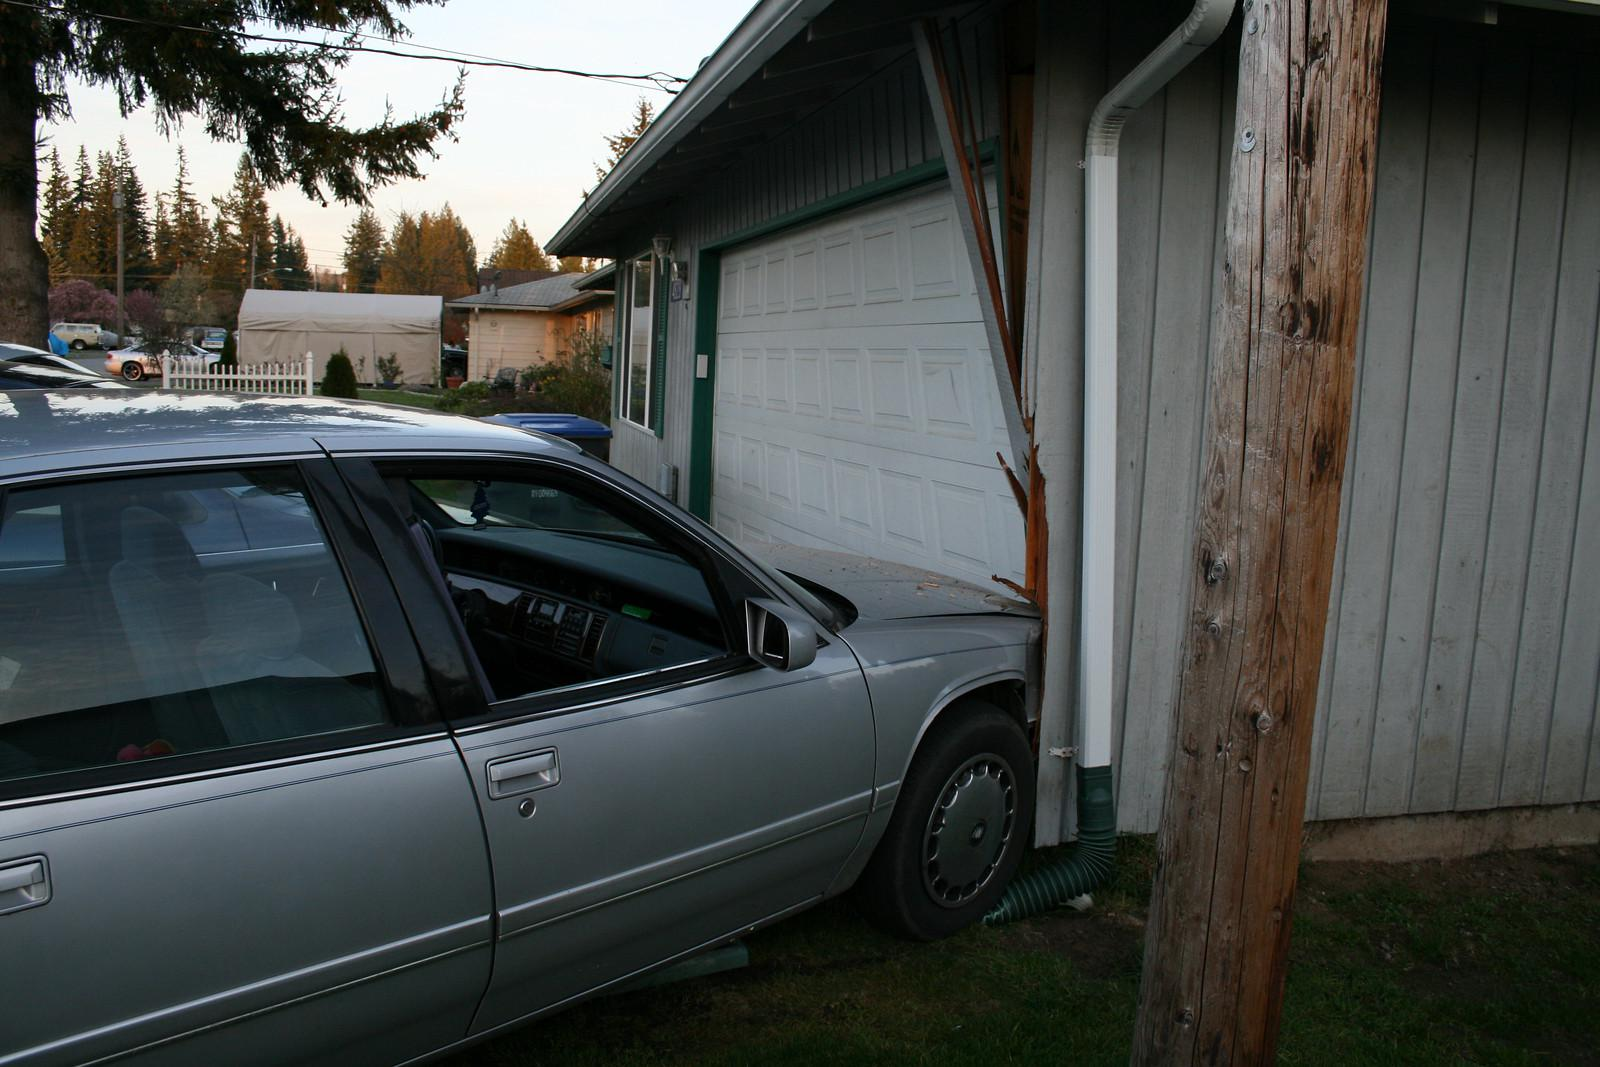fender-dent: (838, 587, 1057, 784)
